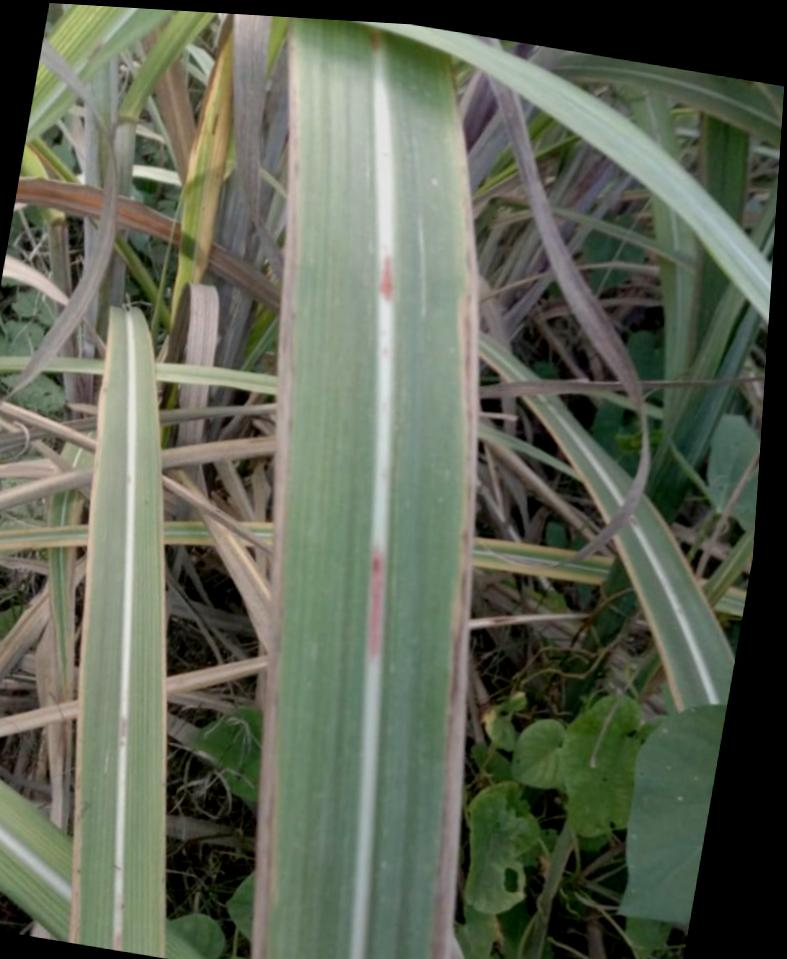RedRot: (366, 535, 389, 664), (376, 251, 395, 305), (117, 715, 128, 747), (369, 29, 380, 52), (112, 931, 121, 950), (380, 342, 389, 358)
